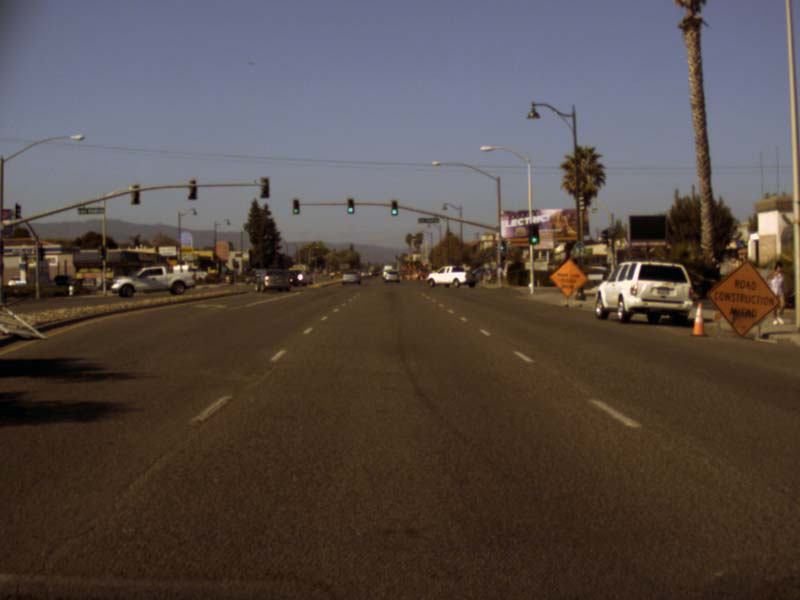Green: (527, 224, 539, 245), (346, 197, 354, 214), (390, 200, 398, 215), (292, 198, 299, 214), (498, 239, 506, 252)
